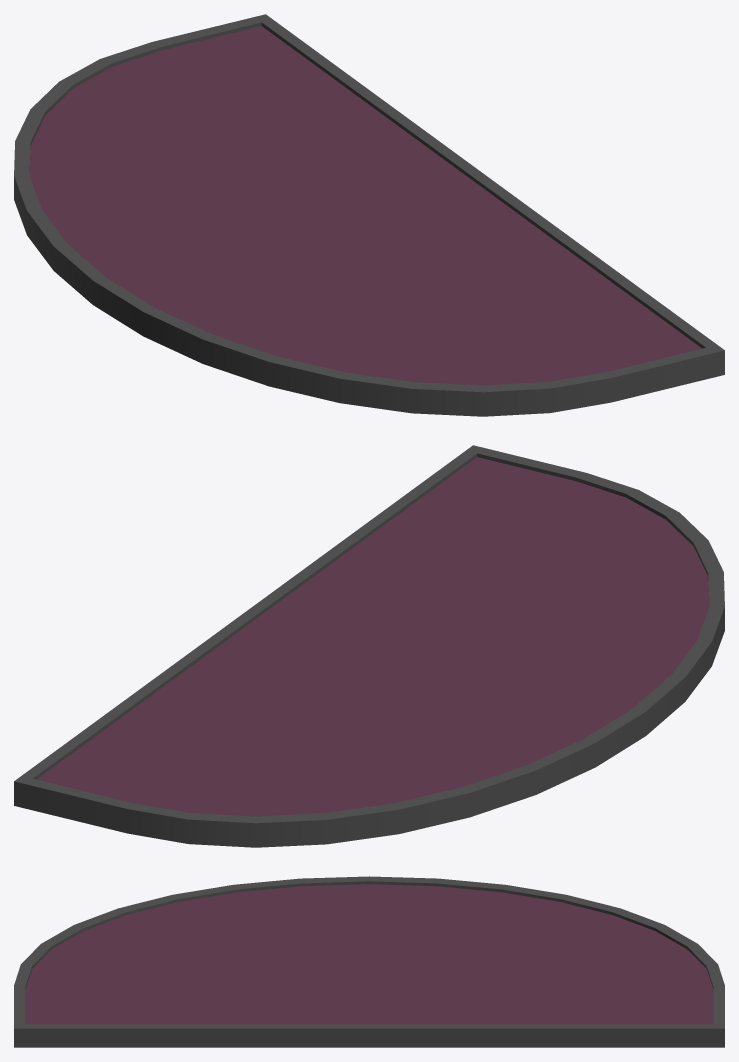
File: bridge_platform.glb
3 renders of one model, top to bottom at view 1: azimuth 30°, elevation 25°; view 2: azimuth 150°, elevation 25°; view 3: azimuth 270°, elevation 25°, orthographic. The views are drawn at different scales.
Visible parts, largest first — view 1: Cube; view 2: Cube; view 3: Cube.
Boxes of the visible parts, x1=… form: Cube: x1=14, y1=14, x2=724, y2=416; Cube: x1=14, y1=445, x2=724, y2=847; Cube: x1=14, y1=876, x2=724, y2=1047.
Bounding box in the file's own units: 3.29 × 0.1916 × 6.51.
